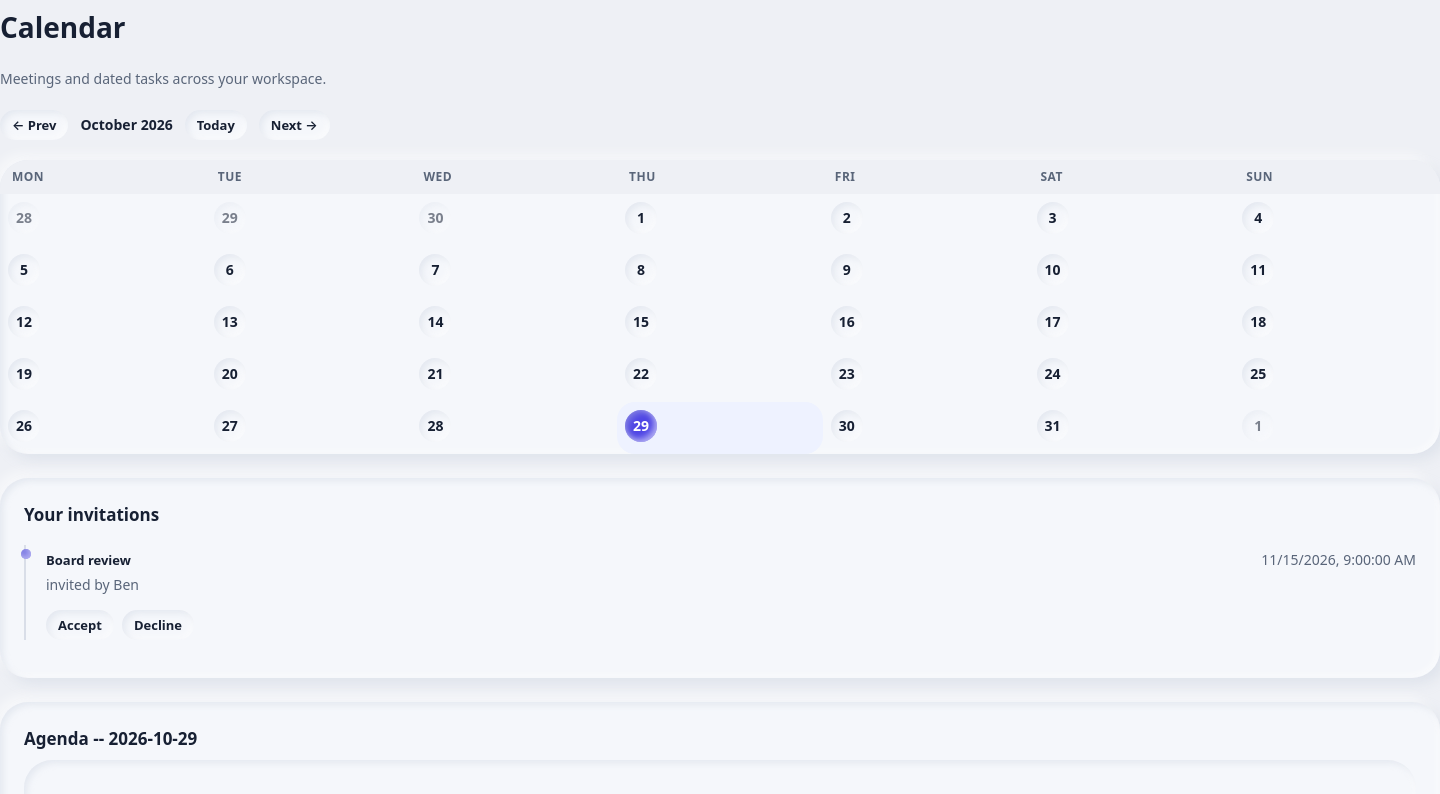
Calendar page › inviting opens the member picker and confirms
This screenshot has width=1440, height=794.
Check: the column heading "Mon" is shown, box [0,160,206,194]
What coordinates should you click on to do the following:
click the button with aria-label "Next month"
I would click on:
 (294, 125)
Its box is [259,110,330,140].
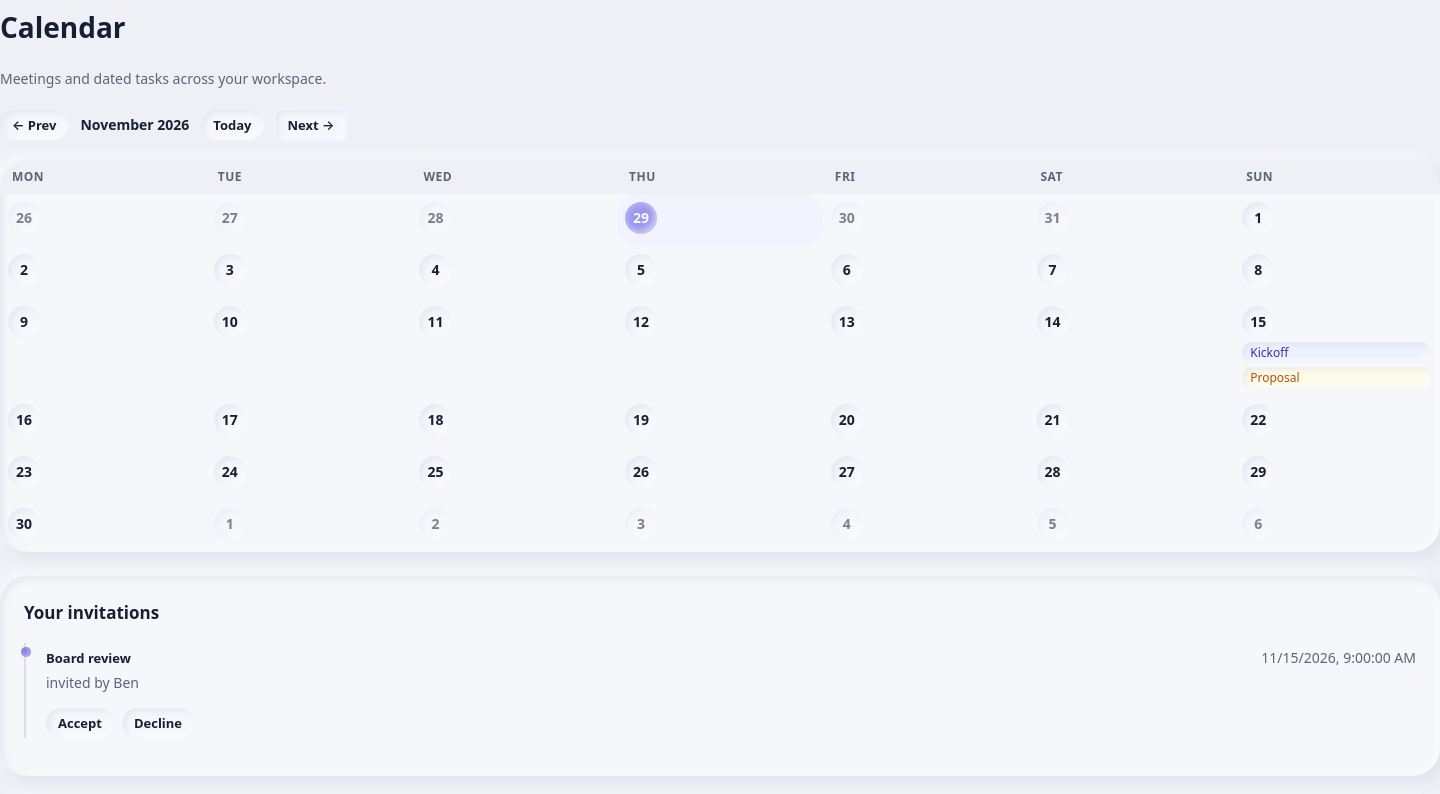
Check: the button titled "Kickoff" is shown, box [1242,342,1432,363]
What coordinates should you click on to do the following:
click the button "15"
I would click on:
 (1258, 322)
Its box is [1242,306,1274,338].
(page scrolled)
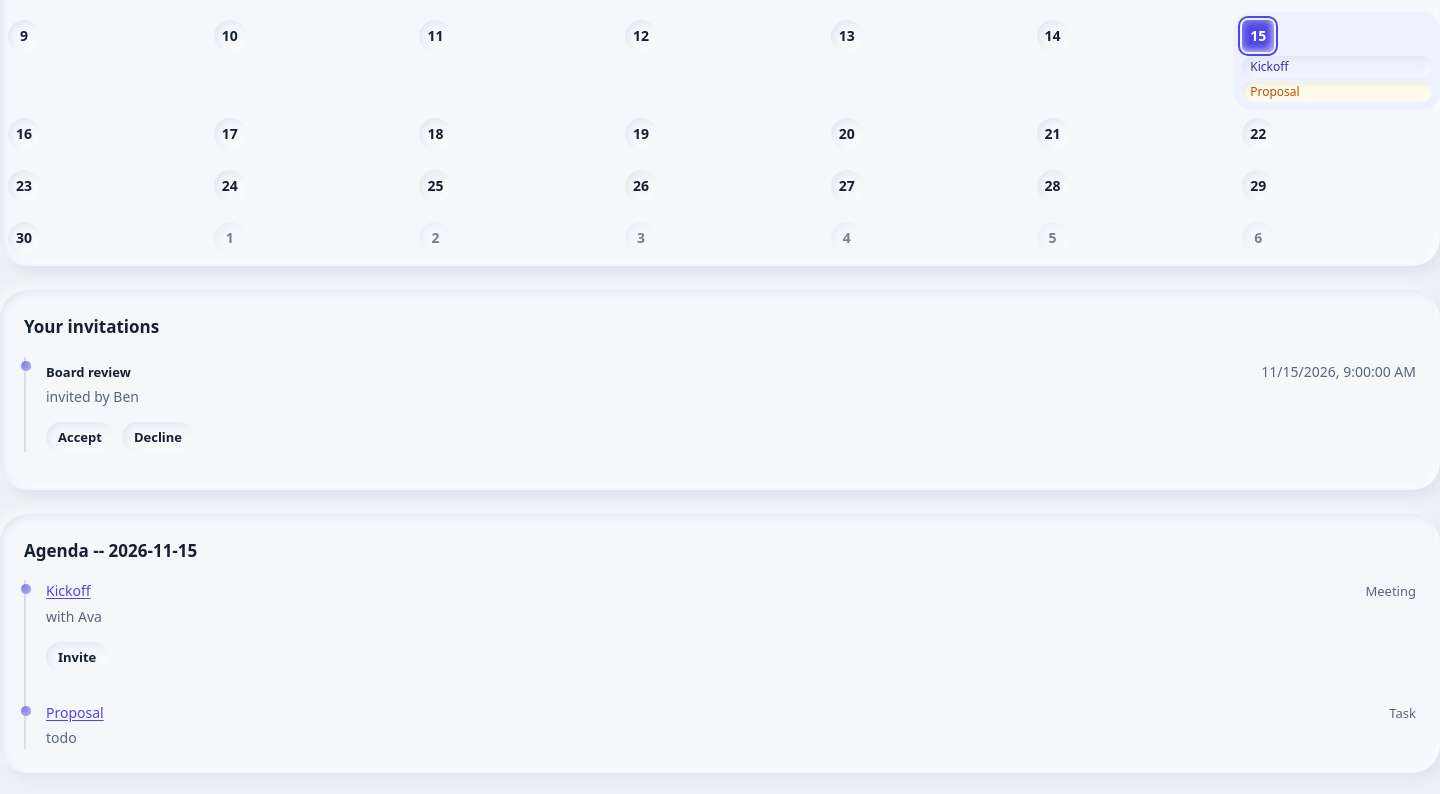
What coordinates should you click on to do the following:
click the button "Invite"
I would click on:
 (77, 657)
Its box is [46,642,108,672].
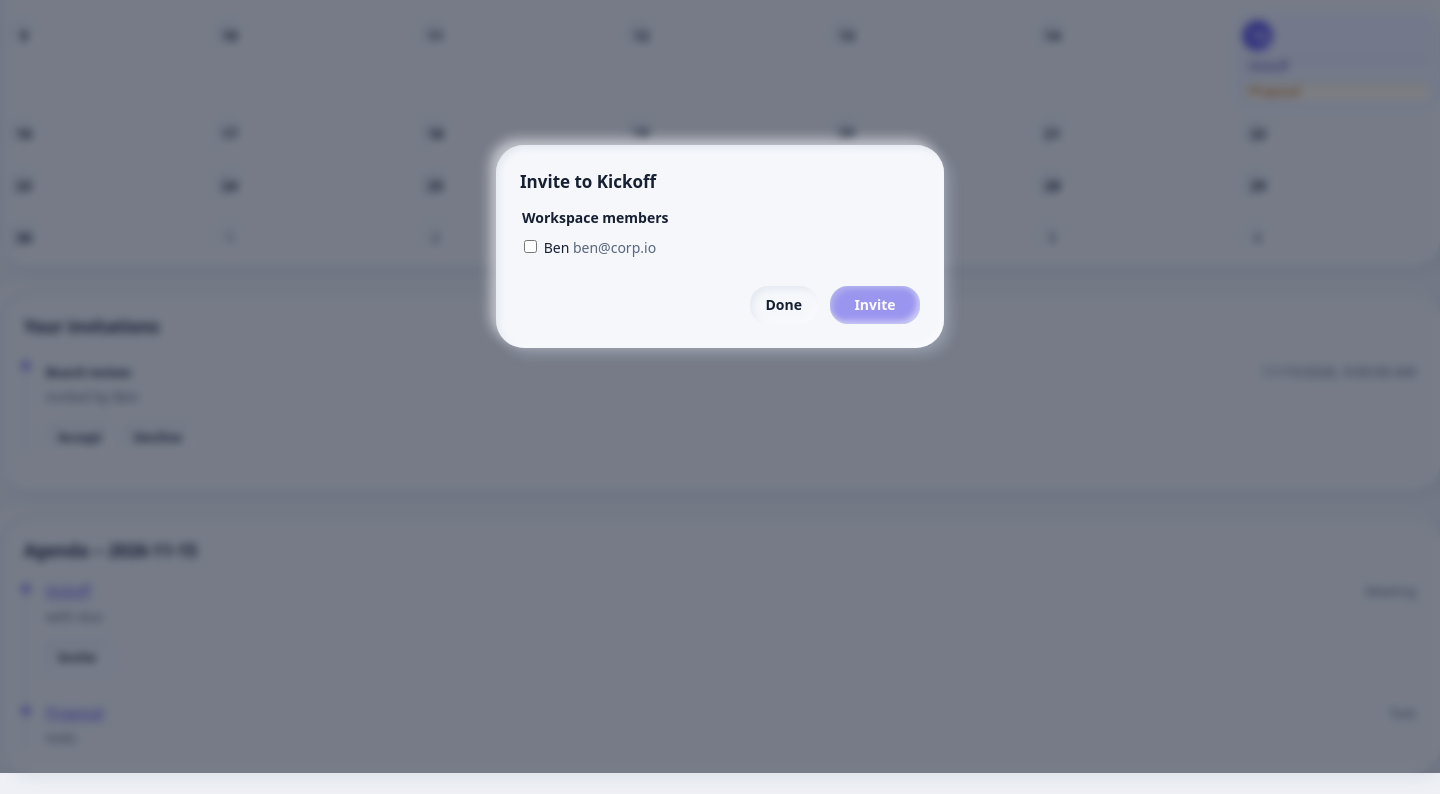
Check: the dialog is shown, box [496,144,944,348]
What coordinates should you click on to do the following:
click the checkbox labelled "Ben ben@corp.io"
I would click on:
 (530, 246)
Its box is [524,240,537,252].
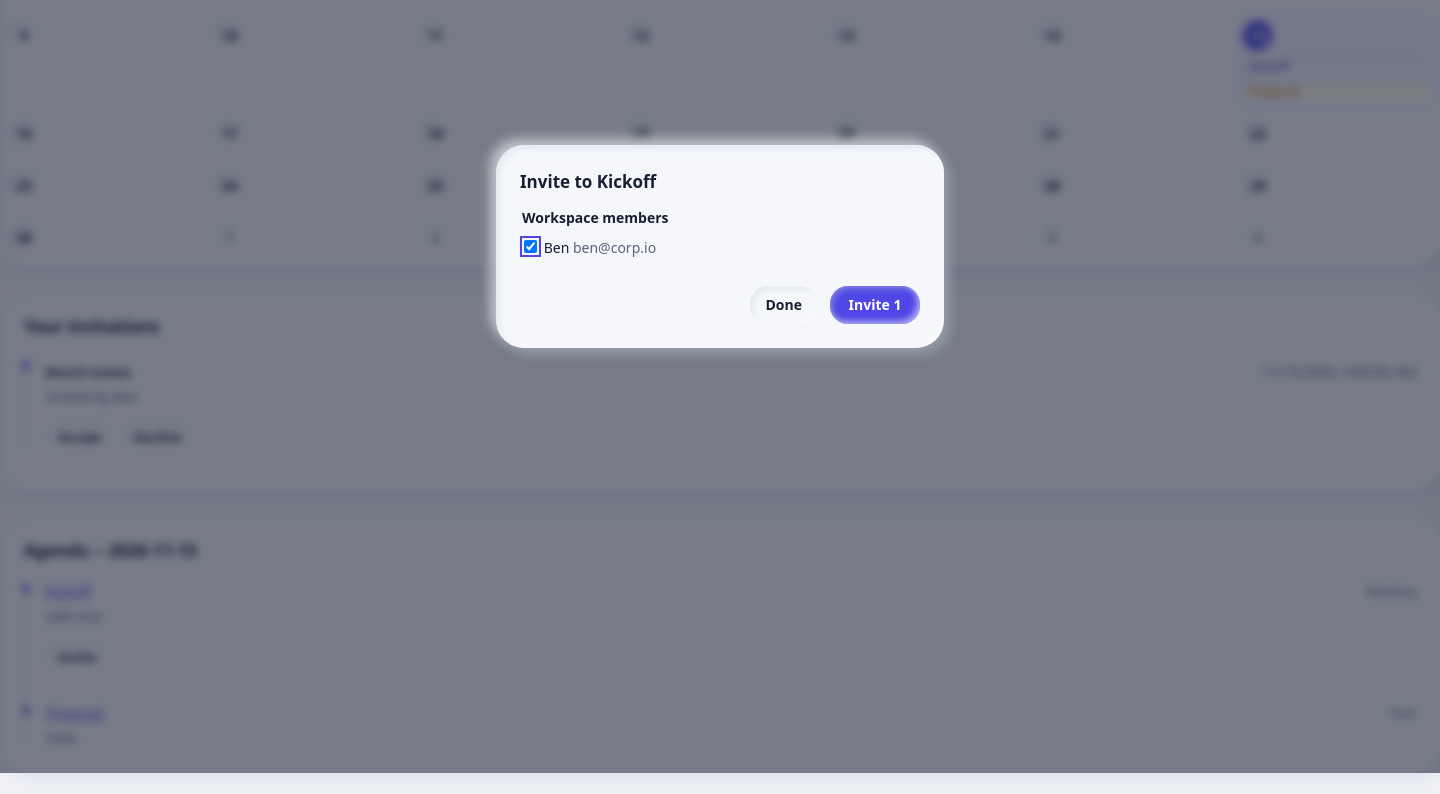
What coordinates should you click on to do the following:
click the button "Invite 1"
I would click on:
 (875, 305)
Its box is [830,286,920,324].
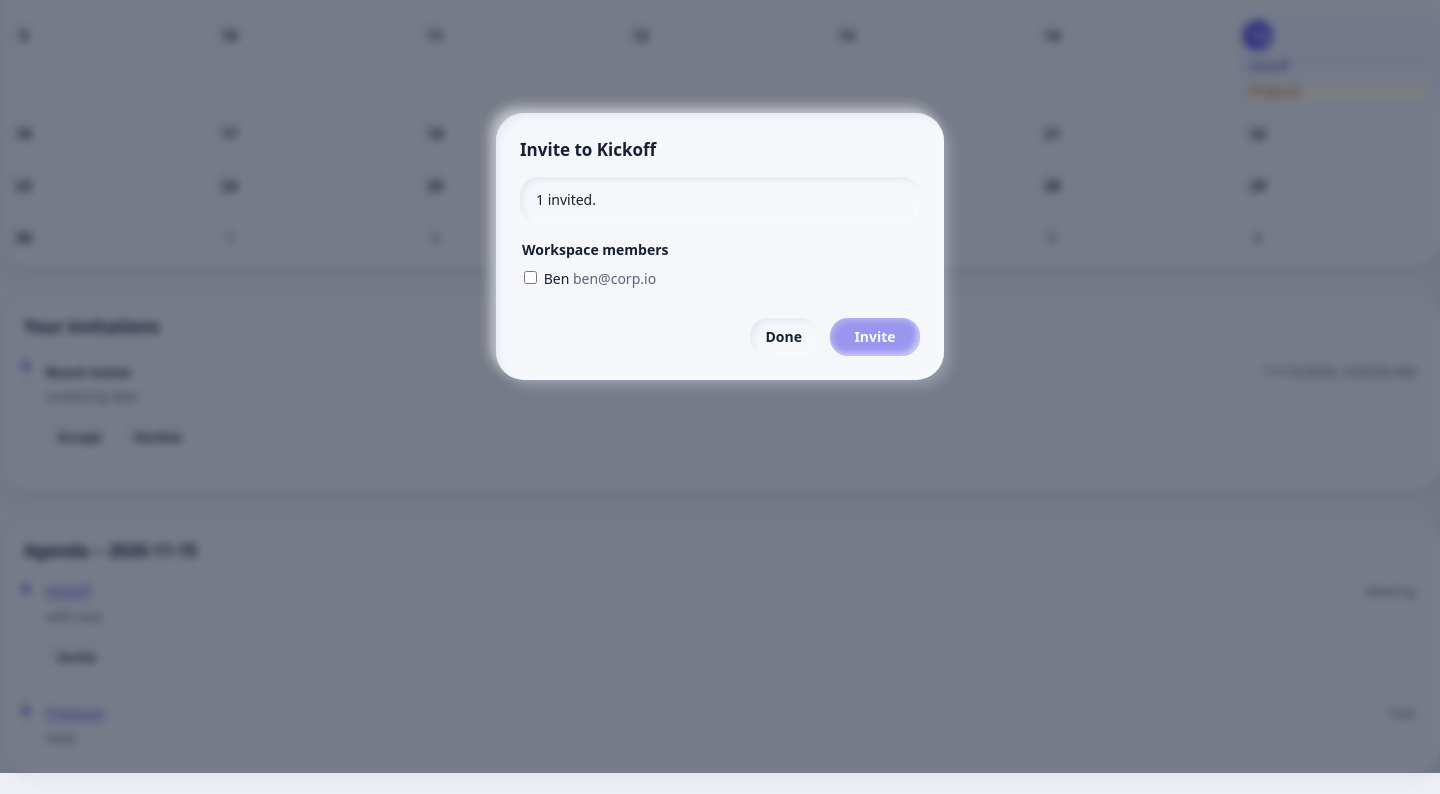
Check: the text "1 invited." is shown, box [520,177,920,223]
